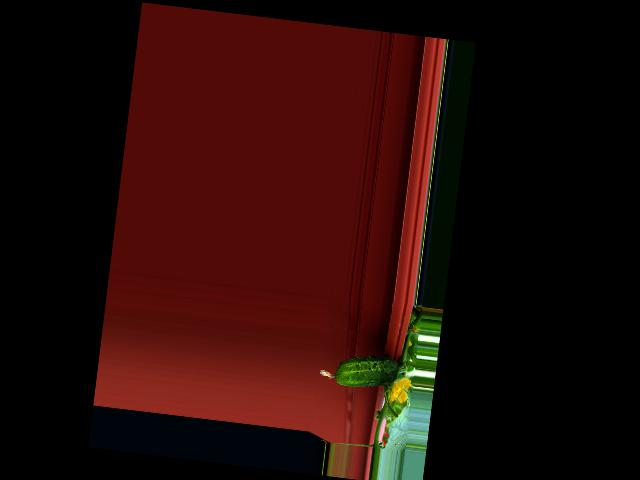cucumber: (318, 349, 400, 392)
